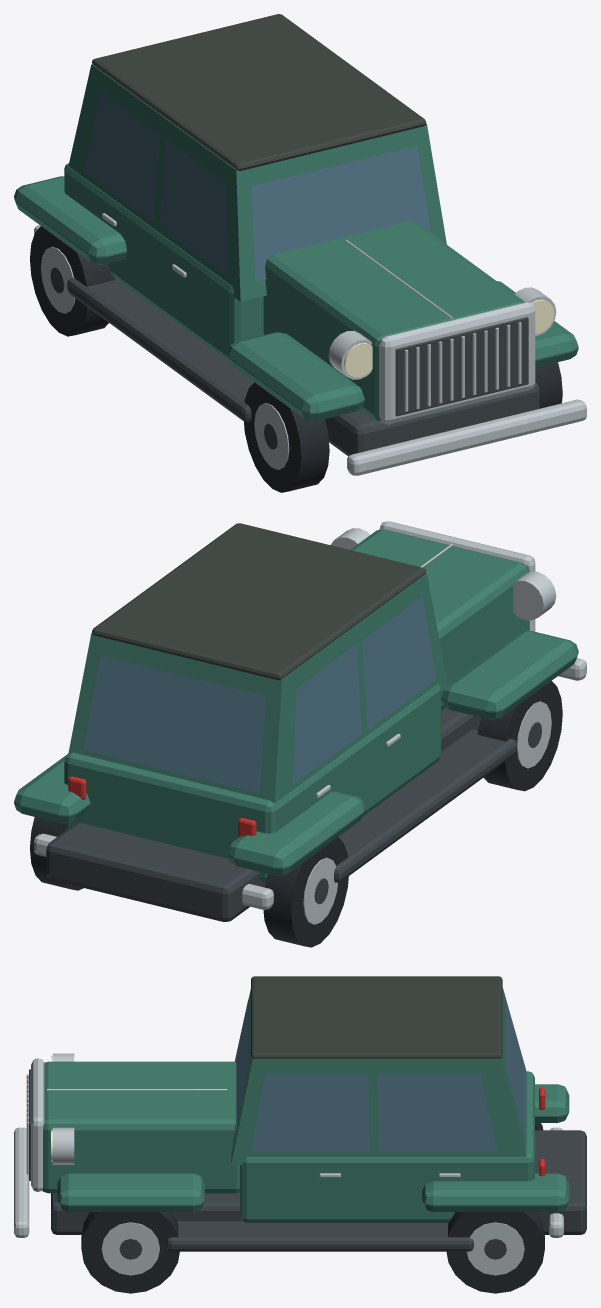
The model's file is car_vintage_saloon.glb.
The picture shows the model from 3 angles, top to bottom: view 1: azimuth 30°, elevation 25°; view 2: azimuth 150°, elevation 25°; view 3: azimuth 270°, elevation 25°; orthographic projection. The views are drawn at different scales.
Parts seen in each view (by area): view 1: Fabric roof cap, Long upright bonnet, Vintage upright cabin shell, Vintage upright windshield, Passenger lower body, Running board, Dark radiator face, Rounded separate fender, Vintage upright left window 2, Vintage upright left window 1, Vintage chrome bumper, Vintage chassis (+10 smaller); view 2: Fabric roof cap, Passenger lower body, Vintage upright rear glass, Vintage upright cabin shell, Vintage chassis, Long upright bonnet, Running board, Rounded separate fender, Vintage upright left window 2, Vintage upright left window 1, Rounded separate fender.001, Left rear wheel tire (+8 smaller); view 3: Long upright bonnet, Fabric roof cap, Passenger lower body, Vintage upright cabin shell, Vintage upright right window 1, Vintage upright right window 2, Running board.001, Vintage chassis, Rounded separate fender.002, Rounded separate fender.003, Right front wheel tire, Right rear wheel tire (+8 smaller).
Part boxes in pixels (x1,y1,x2,y2): Fabric roof cap: (92, 14, 426, 170); Long upright bonnet: (263, 221, 524, 421); Vintage upright cabin shell: (68, 64, 446, 301); Vintage upright windshield: (251, 146, 430, 281); Passenger lower body: (64, 163, 263, 361); Running board: (67, 278, 254, 421); Dark radiator face: (395, 317, 528, 416); Rounded separate fender: (227, 332, 364, 420); Vintage upright left window 2: (84, 90, 160, 222); Vintage upright left window 1: (159, 139, 228, 277); Vintage chrome bumper: (347, 399, 586, 475); Vintage chassis: (325, 382, 539, 456); Fabric roof cap: (92, 523, 426, 680); Passenger lower body: (64, 684, 441, 881); Vintage upright rear glass: (83, 655, 266, 793); Vintage upright cabin shell: (68, 573, 447, 803); Vintage chassis: (46, 707, 481, 921); Long upright bonnet: (350, 529, 529, 709); Running board: (334, 729, 516, 882); Rounded separate fender: (441, 631, 578, 719); Vintage upright left window 2: (292, 644, 361, 784); Vintage upright left window 1: (362, 596, 436, 729); Rounded separate fender.001: (228, 791, 365, 875); Left rear wheel tire: (263, 837, 348, 947); Long upright bonnet: (42, 1061, 239, 1193); Fabric roof cap: (251, 976, 502, 1058); Passenger lower body: (240, 1071, 534, 1222); Vintage upright cabin shell: (231, 987, 526, 1164); Vintage upright right window 1: (251, 1074, 369, 1151); Vintage upright right window 2: (377, 1074, 496, 1151); Running board.001: (166, 1221, 473, 1251); Vintage chassis: (51, 1130, 586, 1234); Rounded separate fender.002: (57, 1173, 204, 1211); Rounded separate fender.003: (422, 1173, 569, 1211); Right front wheel tire: (81, 1212, 179, 1293); Right rear wheel tire: (446, 1212, 544, 1293).
Size of the model in its own units: 2.14 by 1.95 by 4.51.
